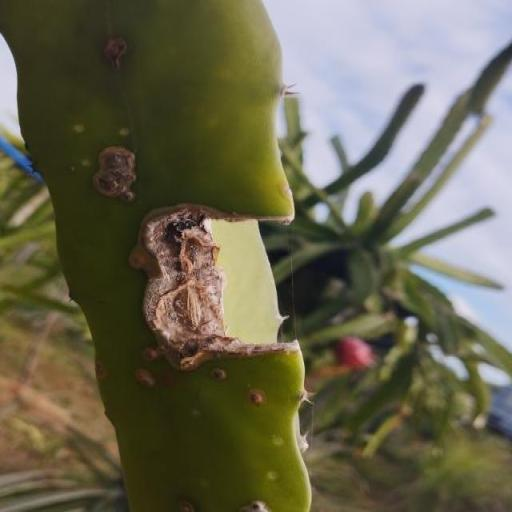stemcanker: (246, 385, 272, 422), (207, 363, 234, 389), (138, 341, 162, 367), (69, 118, 90, 144), (114, 120, 134, 142)
